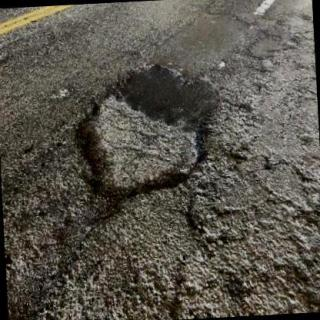pothole: (78, 65, 219, 202)
